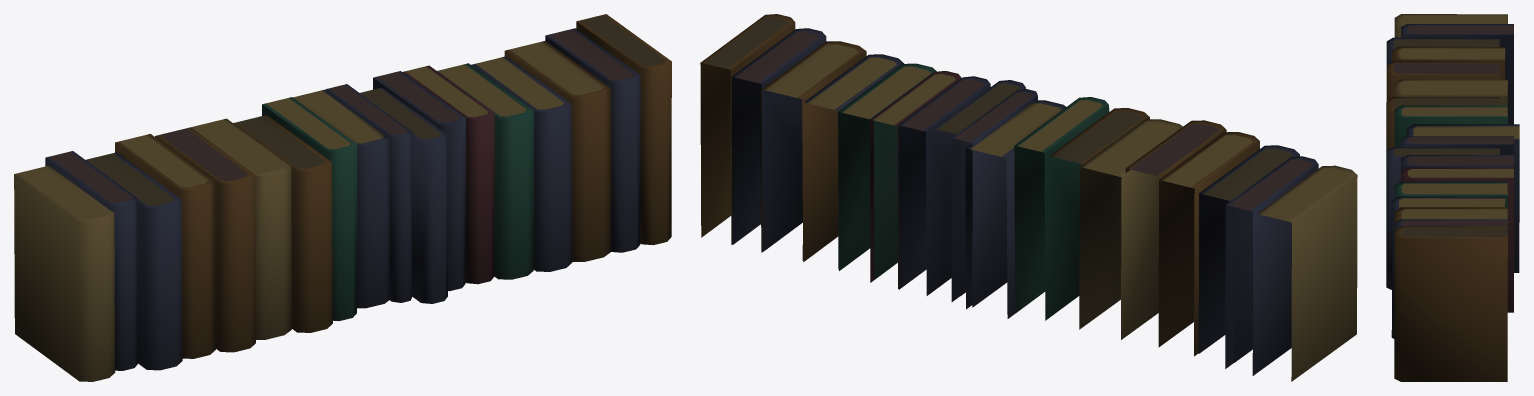
File: pq_livres_moyens_3.glb
3 views of the same model, side by side, from view 1: azimuth 30°, elevation 25°; view 2: azimuth 150°, elevation 25°; view 3: azimuth 270°, elevation 25° (orthographic). The views are drawn at different scales.
Parts seen in each view (by area): view 1: BookGroup_Medium_3; view 2: BookGroup_Medium_3; view 3: BookGroup_Medium_3.
Part boxes in pixels (x1,y1,x2,y2): BookGroup_Medium_3: (14, 14, 671, 381); BookGroup_Medium_3: (700, 14, 1357, 381); BookGroup_Medium_3: (1386, 14, 1519, 381).
Size of the model in its own units: 0.9169 by 0.2595 by 0.2178.
